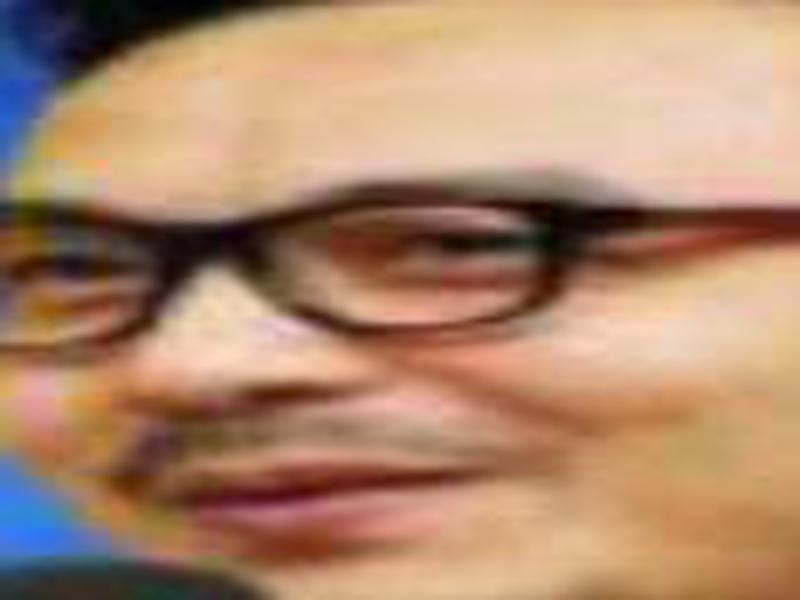without_mask: (8, 14, 800, 600)
